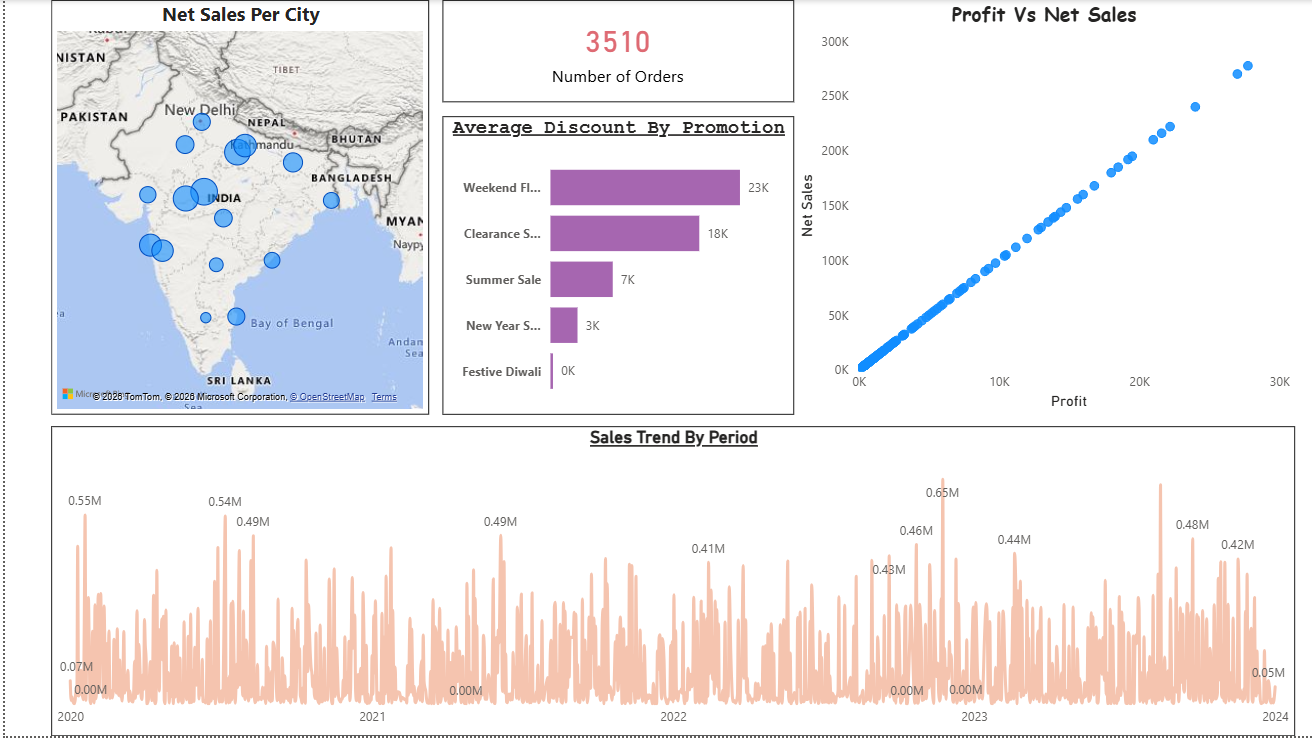

This screenshot's page, from the dashboard's own definition file:
{"tool":"powerbi","page":{"name":"Overview","canvas":[1280,720],"ordinal":0},"visuals":[{"type":"lineChart","title":"Sales Trend By Period","fields":{"Y":["Sum(Fact Table.Net Sales)"],"Category":["Fact Table.Date (dd/mm/yyyy).Variation.Date Hierarchy.Year"]},"box":[45.2,417,1216.7,303.3],"z":0},{"type":"scatterChart","title":"Profit Vs Net Sales","fields":{"Y":["Fact Table.Net Sales"],"X":["Fact Table.Profit"]},"box":[771.6,0,490.4,406],"z":1000},{"type":"barChart","title":"Average Discount By Promotion","fields":{"Y":["Avg(Fact Table.Discount Value)"],"Category":["Dim Promotion.Promotion Name"]},"box":[428,113.7,343.6,292.3],"z":2000},{"type":"map","title":"Net Sales Per City","fields":{"Category":["Dim Customers.City"],"Size":["Sum(Fact Table.Net Sales)"]},"box":[45.2,0,369.3,406],"z":3000},{"type":"card","fields":{"Values":["Count(Fact Table.Order ID)"]},"box":[428,0,343.6,100.3],"z":4000}]}

Visuals, with their boxes in screenshot pixels (x1, y1, x2, y2), scaled from the page's 1280x720 canvas onto the 1312x738 screenshot:
"Sales Trend By Period" lineChart: [x1=46, y1=427, x2=1293, y2=737]
"Profit Vs Net Sales" scatterChart: [x1=791, y1=0, x2=1294, y2=416]
"Average Discount By Promotion" barChart: [x1=439, y1=117, x2=791, y2=416]
"Net Sales Per City" map: [x1=46, y1=0, x2=425, y2=416]
card - Count(Fact Table.Order ID): [x1=439, y1=0, x2=791, y2=103]
